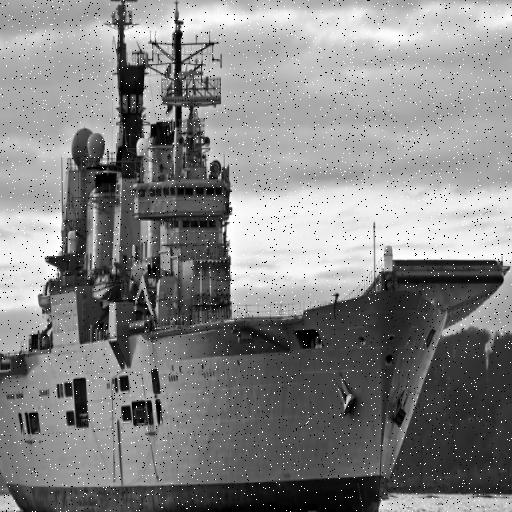Portanaves: (1, 1, 509, 512)
